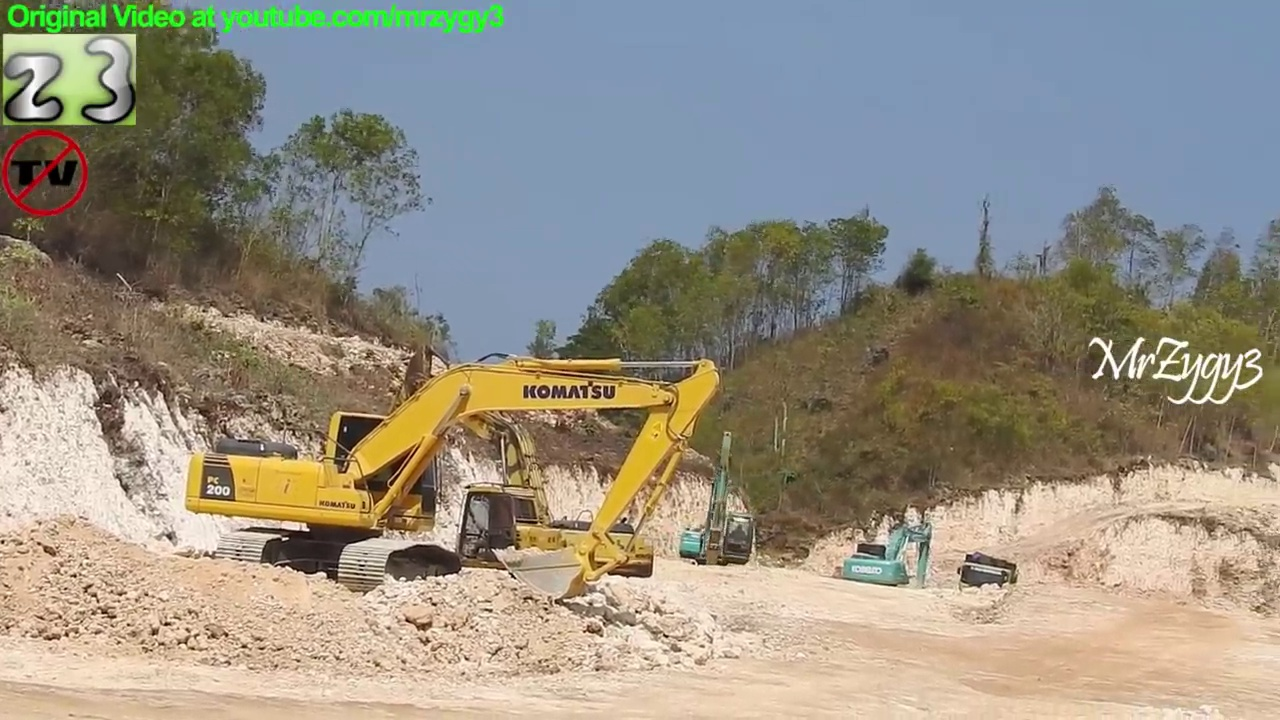excavator: (178, 345, 727, 606), (364, 340, 657, 598), (674, 427, 761, 579), (837, 514, 937, 610), (953, 547, 1023, 617)
